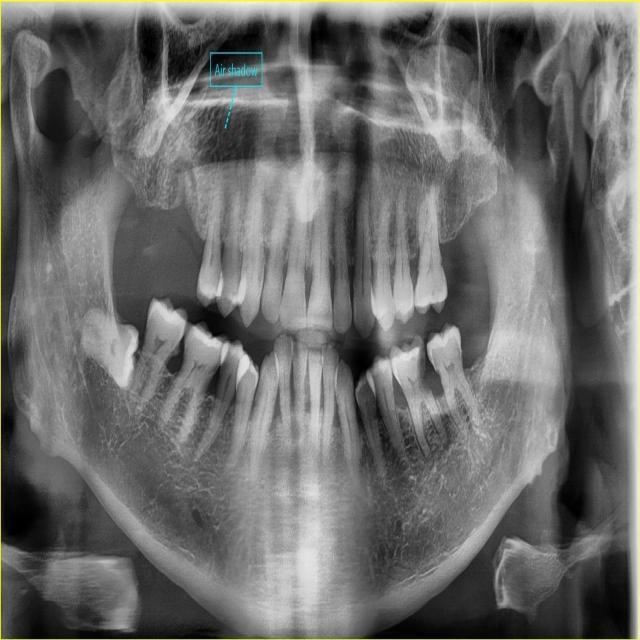Sterngold Implant: (411, 340, 433, 398), (432, 361, 449, 387), (435, 253, 446, 279), (455, 343, 463, 370), (372, 406, 379, 424), (428, 289, 437, 299)
